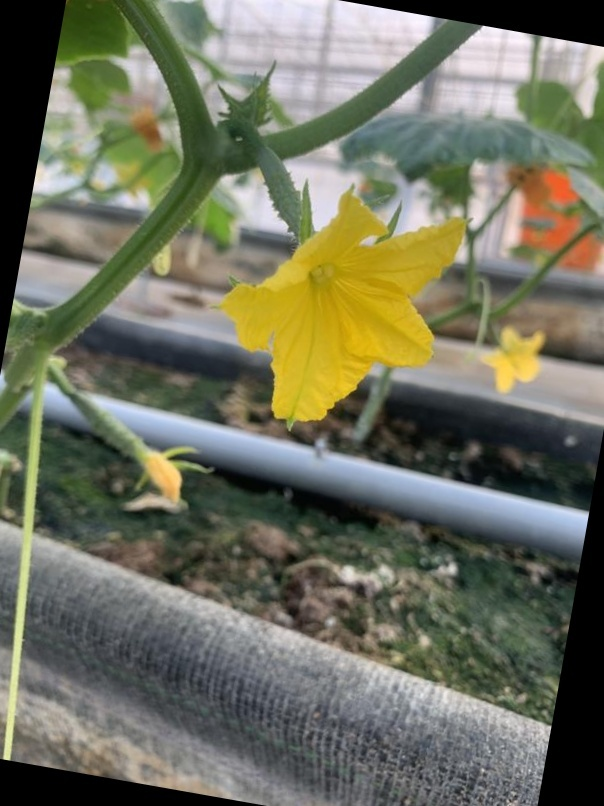flowering: (166, 130, 475, 444)
